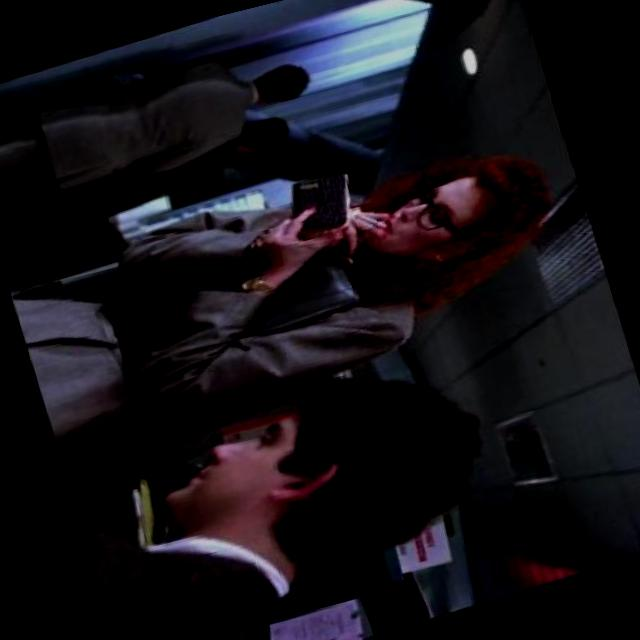cigarette: (353, 209, 392, 240)
